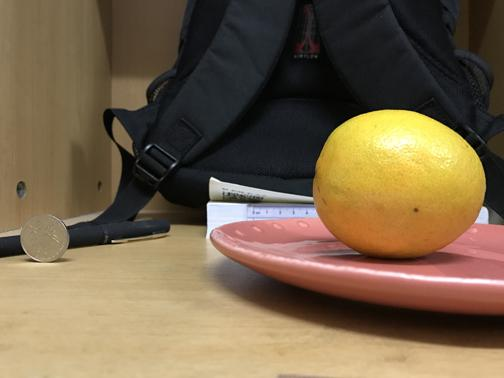coin: (18, 214, 69, 263)
orange: (311, 108, 486, 261)
